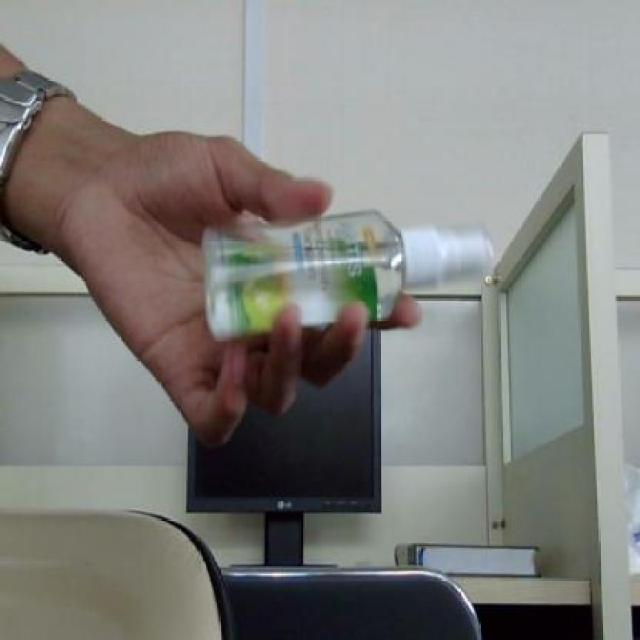Plastic: (198, 202, 499, 343)
